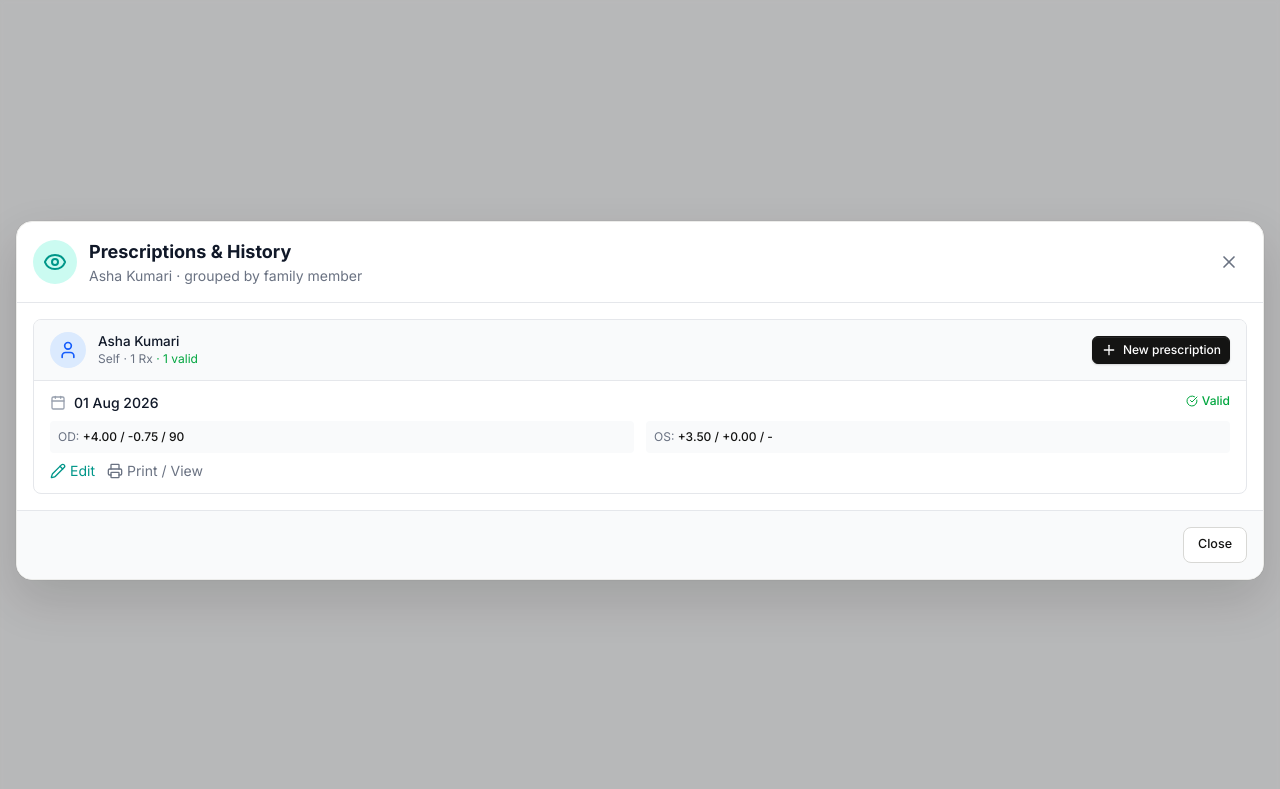
Scenario: a prescription with NO exam behind it › still opens the Rx-only form, in place
The width and height of the screenshot is (1280, 789).
Expected: the text "Asha Kumari" is shown, [98,333,180,349]
Click the button "Edit" at (72, 470), box [50,460,95,480]
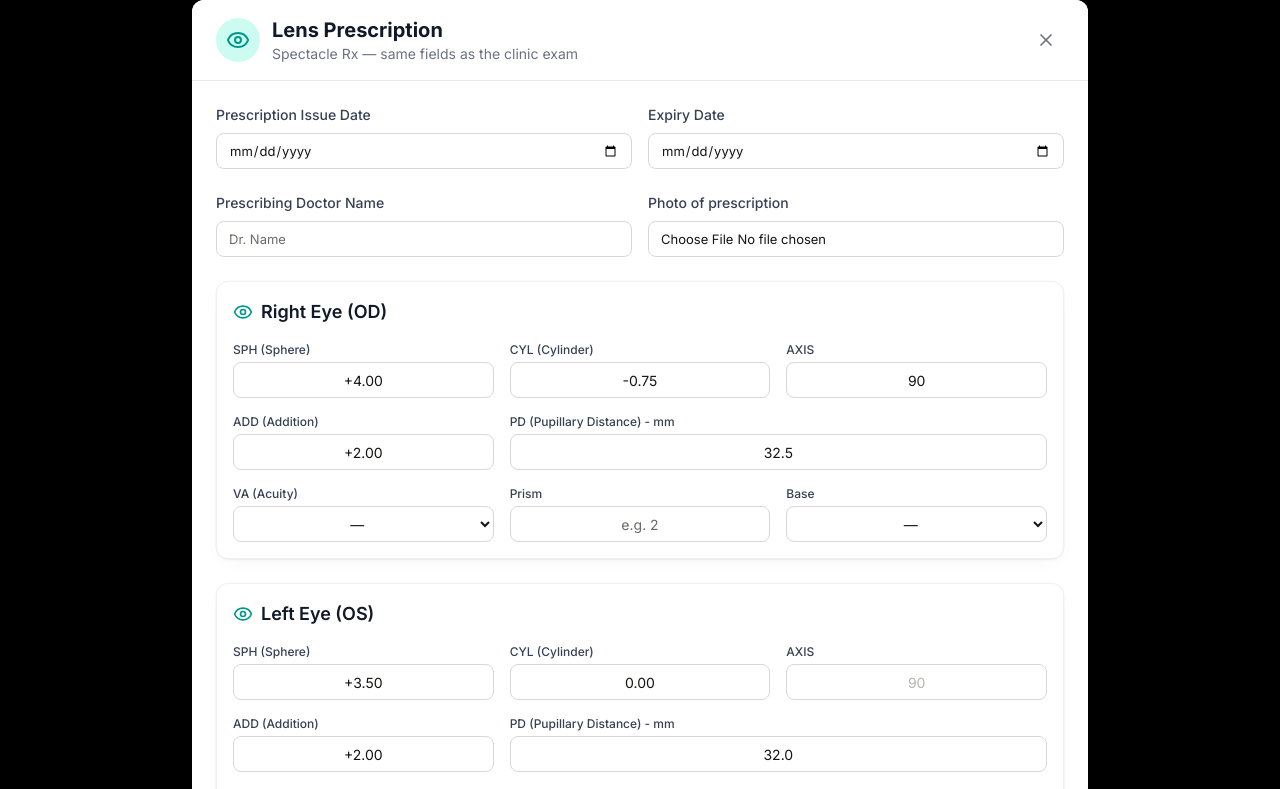
Now the field named "Right eye sphere" is shown, box [233,362,494,398]
